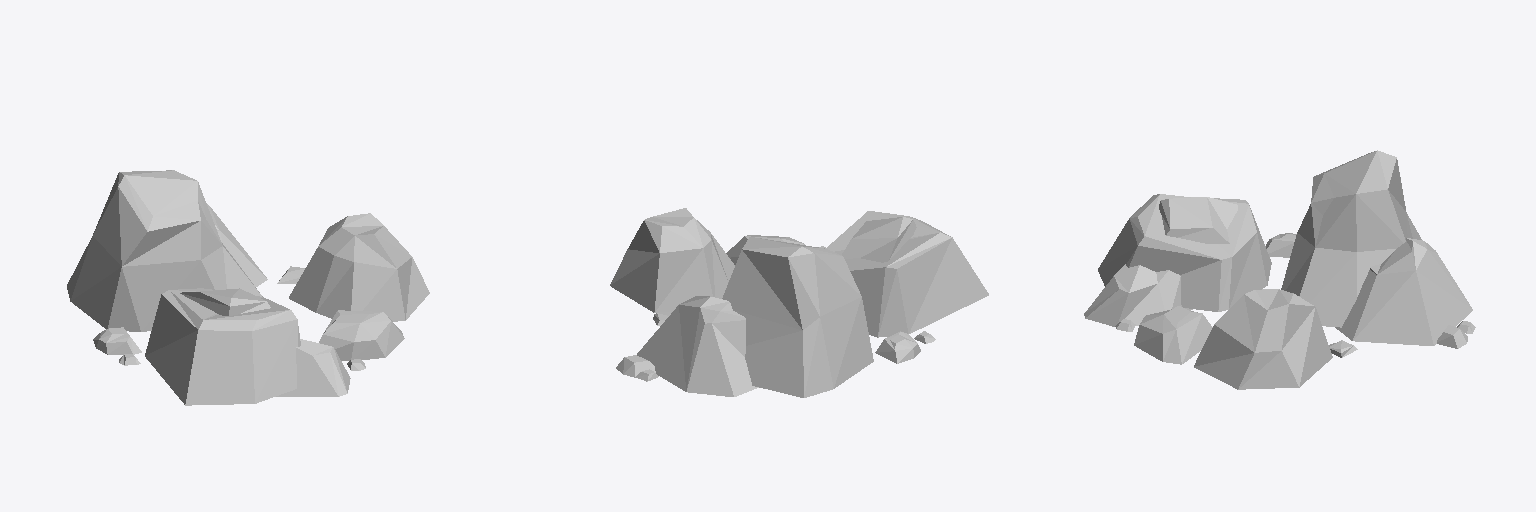
The model's file is rocks01.obj.
The picture shows the model from 3 angles: view 1: azimuth 30°, elevation 25°; view 2: azimuth 150°, elevation 25°; view 3: azimuth 270°, elevation 25°; orthographic projection.
Visible parts, largest first — view 1: Rocks01; view 2: Rocks01; view 3: Rocks01.
Part boxes in pixels (left/top/right/bottom): Rocks01: left=67, top=170, right=429, bottom=405; Rocks01: left=610, top=208, right=988, bottom=397; Rocks01: left=1084, top=150, right=1475, bottom=389.
Bounding box in the file's own units: 5.76 × 2.35 × 6.39.